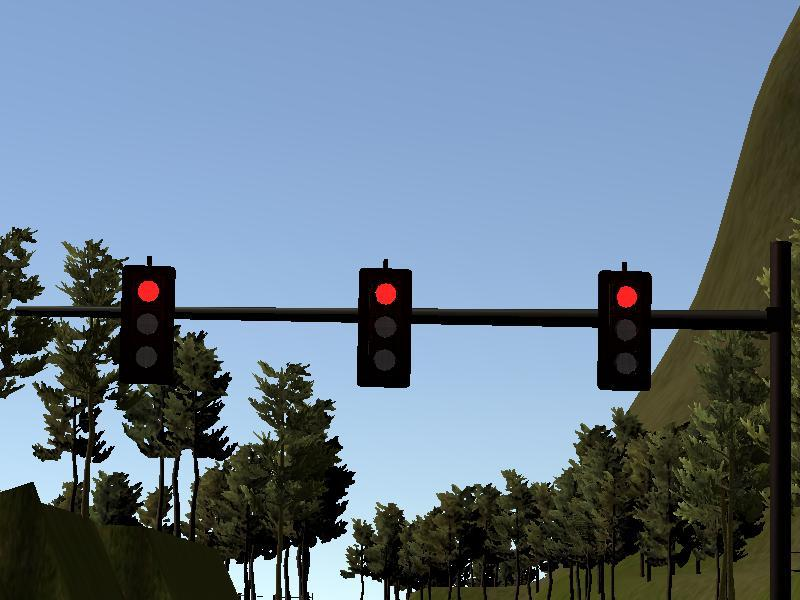Red: (599, 272, 651, 389), (360, 267, 410, 387), (124, 264, 173, 380)
